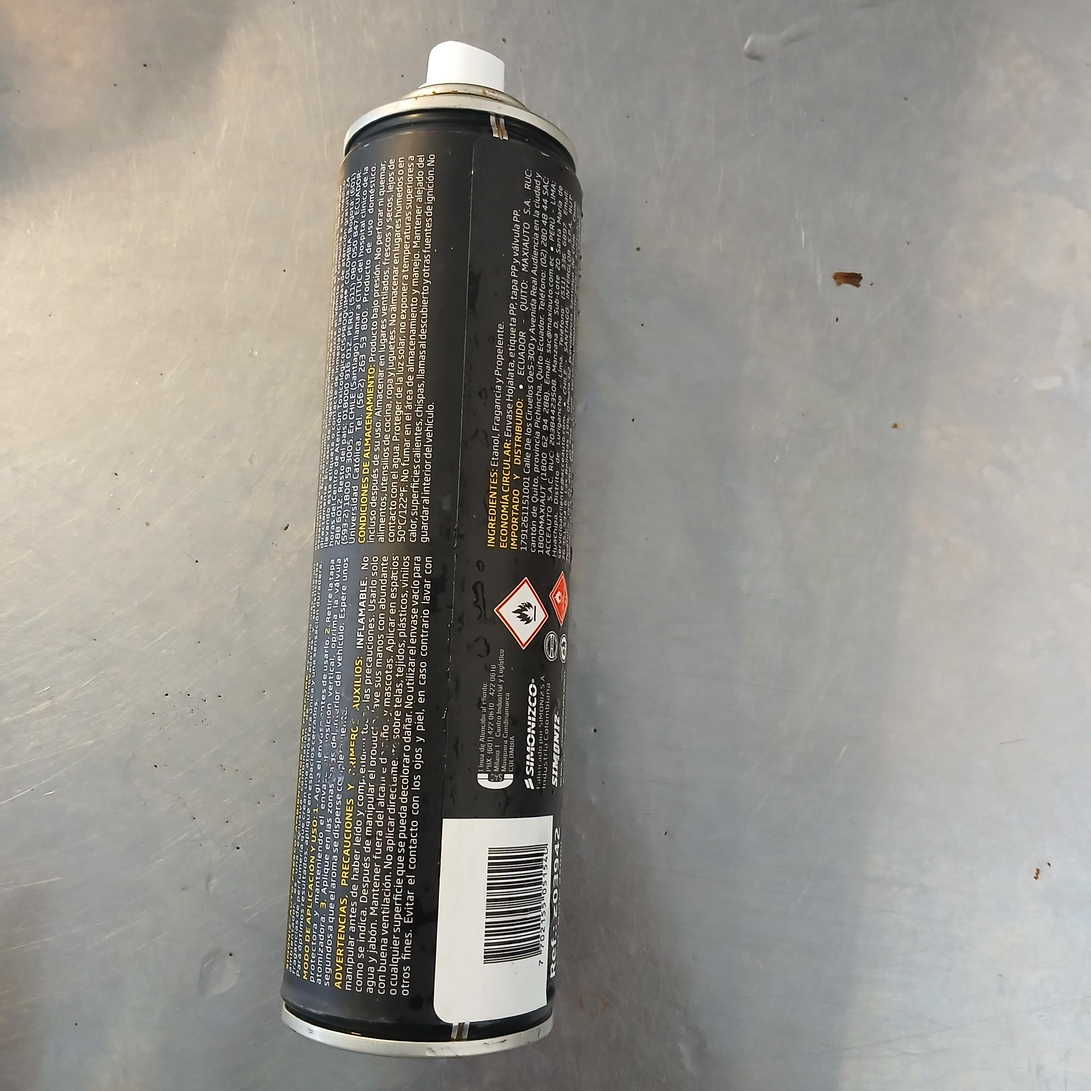Metal: (278, 84, 581, 1061)
